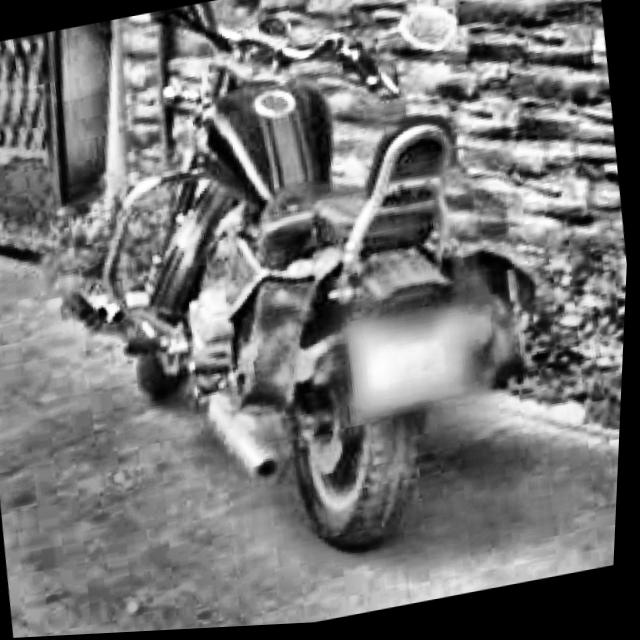motorcycle: (51, 0, 562, 606)
